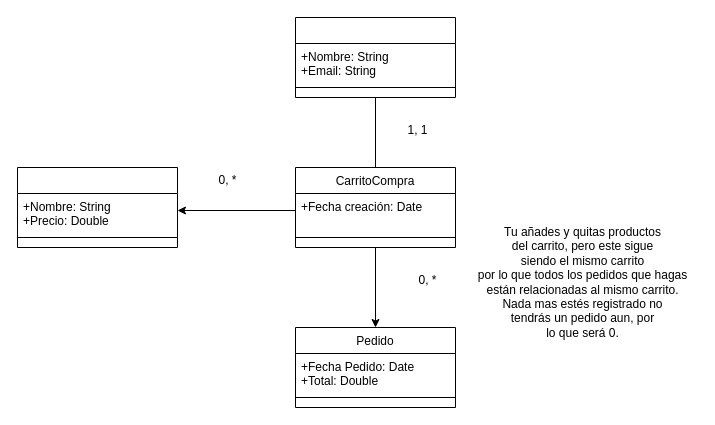
Some shapes in this 715 by 425 pixel diagram are drawn without their labels. The shapes that lost their labels are listed below. From the top down, each one's box as (x1, y1, x2, y2) in pixels, then its label:
(294, 16, 456, 98): Cliente
(16, 166, 178, 248): Producto
